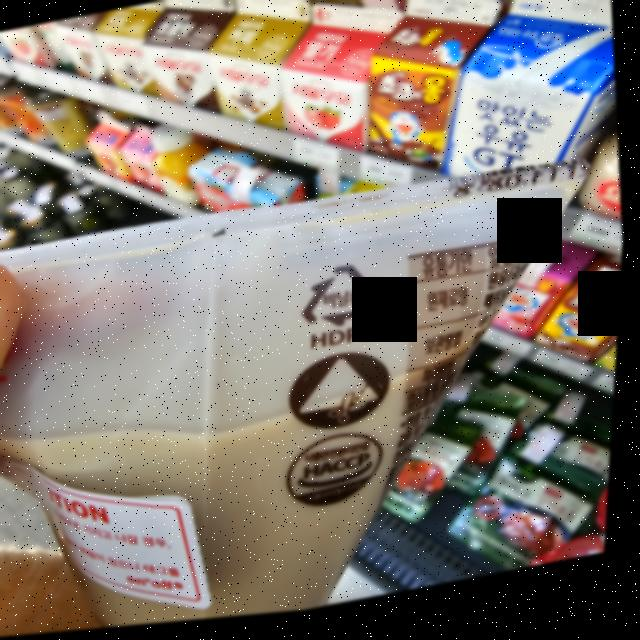Vinyl: (295, 262, 395, 342)
